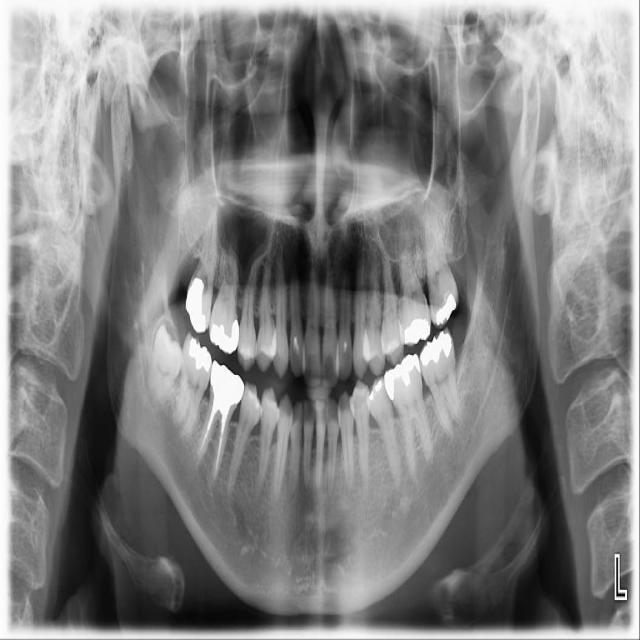52: (404, 324, 470, 389), (375, 350, 435, 407), (196, 358, 252, 412), (397, 292, 434, 348), (182, 273, 215, 335), (180, 331, 214, 391), (427, 273, 460, 329), (208, 298, 240, 355), (365, 375, 391, 420), (334, 328, 354, 383), (289, 324, 306, 378)
73: (187, 391, 238, 482), (592, 576, 595, 590)
BioHorizons Implant: (396, 210, 432, 346)
BioLife Implant: (421, 211, 461, 329)
Blue Sky Bio Implant: (413, 326, 468, 442)
Caries: (181, 205, 224, 334)
Implant: (169, 330, 217, 442)
Keystone Dental Implant: (143, 322, 191, 403)
